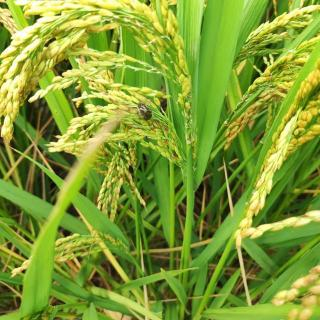Gosong-Palsu: (136, 100, 154, 120)
